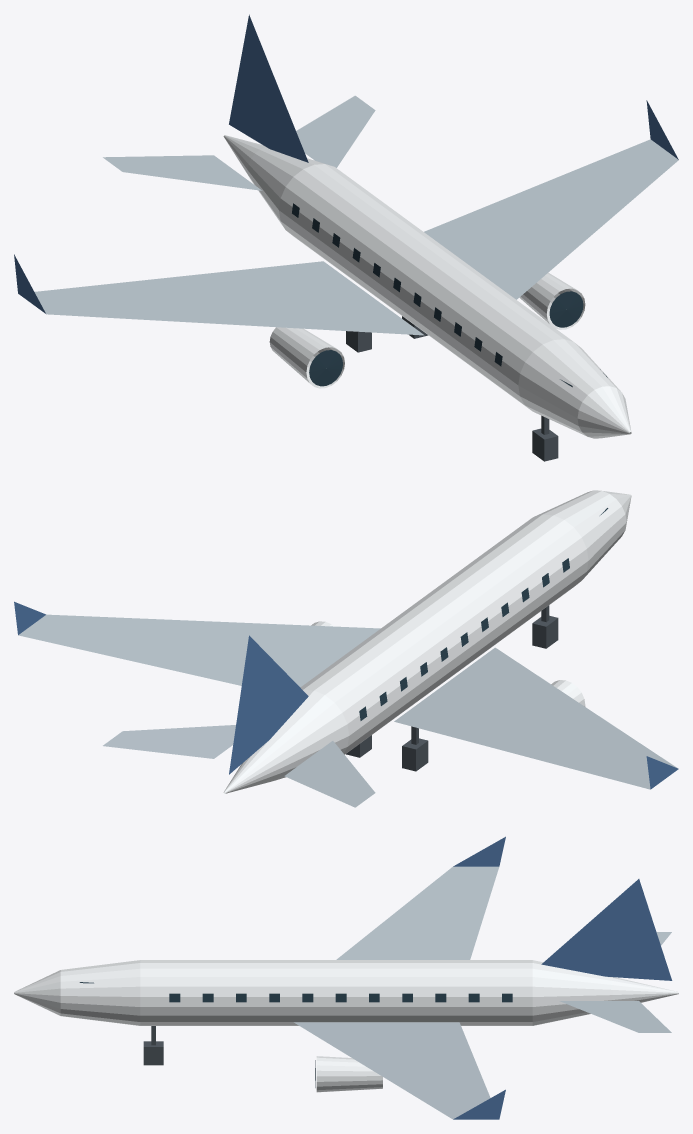
The model's file is generic-JBU.gltf.
3 views of the same model, one above another, from view 1: azimuth 30°, elevation 25°; view 2: azimuth 150°, elevation 25°; view 3: azimuth 270°, elevation 25° (orthographic). The views are drawn at different scales.
Parts seen in each view (by area): view 1: object 1, Gear; view 2: object 1, Gear; view 3: object 1, Gear.
Part boxes in pixels (x1,y1,x2,y2): object 1: [14, 14, 678, 438]; Gear: [346, 316, 558, 461]; object 1: [14, 490, 678, 807]; Gear: [346, 605, 558, 771]; object 1: [14, 836, 678, 1119]; Gear: [143, 1026, 163, 1065].
Size of the model in its own units: 36 by 12.2 by 40.
